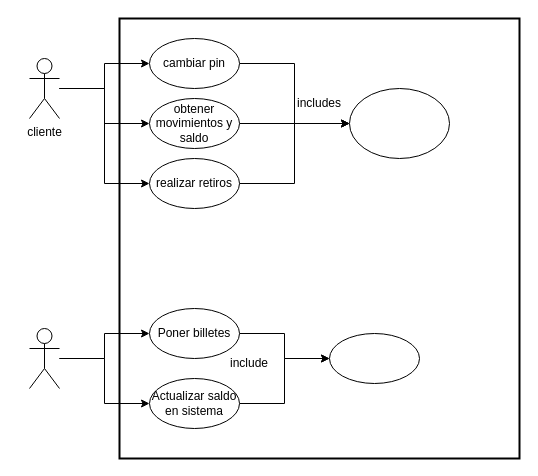
The diagram is 538 pixels wide and 476 high, and some of its shapes have lost their labels. Here are the shapes that lost their labels. From the top down, the box of each, then its label:
(348, 88, 450, 158): Identicar usuario
(28, 328, 60, 388): Empleado
(328, 332, 420, 384): Identificar empleado
